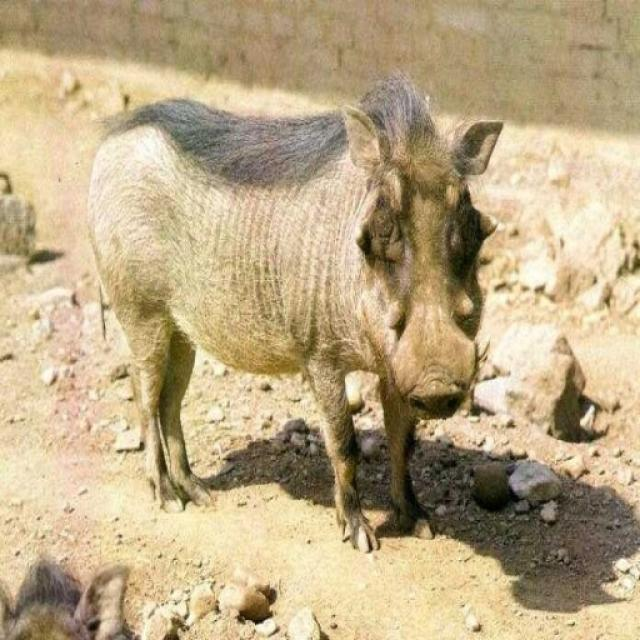pig: (86, 67, 505, 537)
